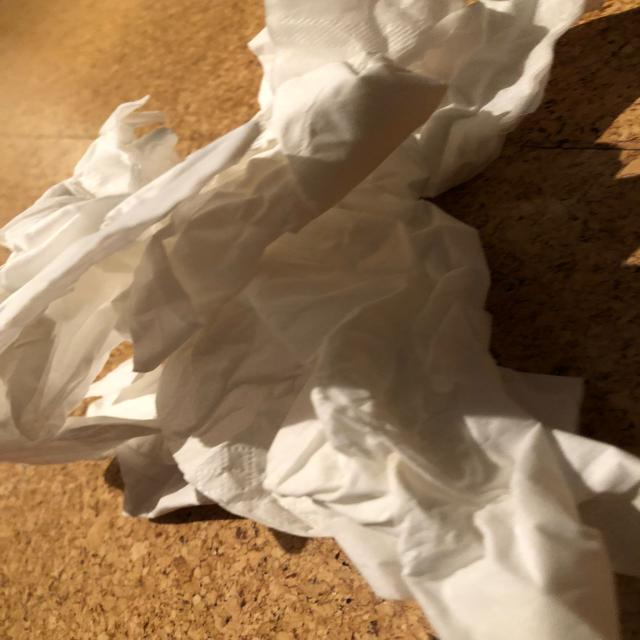kitchen paper: (0, 0, 594, 475), (171, 134, 640, 640)
